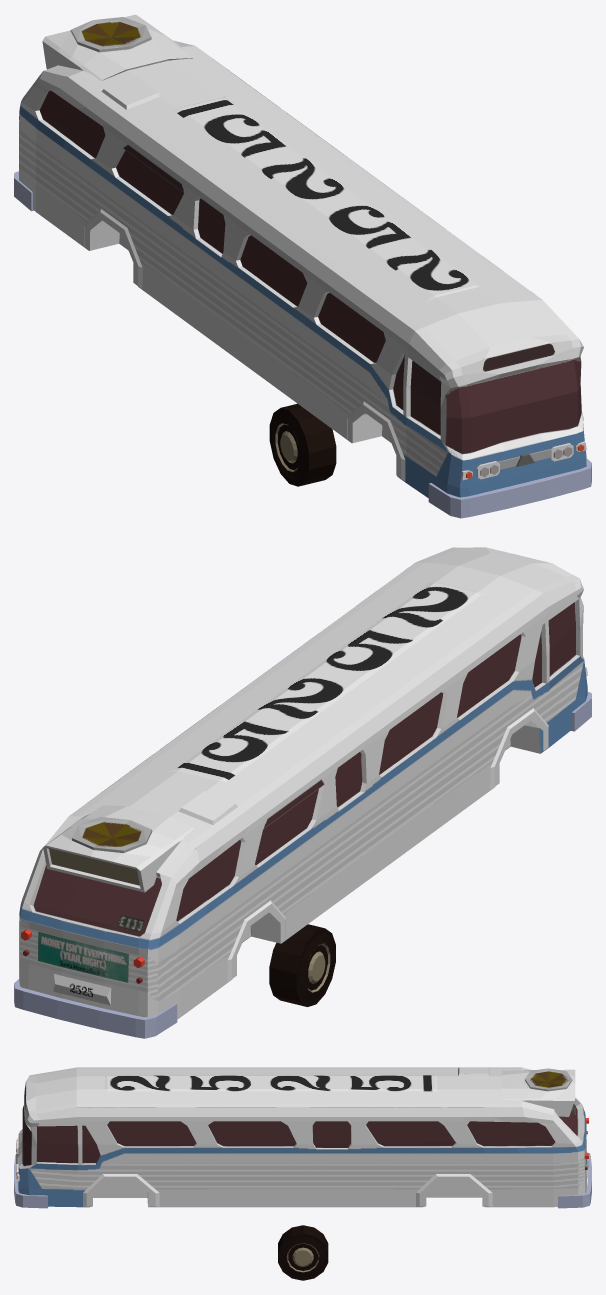
The model's file is bus_textured_2.glb.
3 renders of one model, top to bottom at view 1: azimuth 30°, elevation 25°; view 2: azimuth 150°, elevation 25°; view 3: azimuth 270°, elevation 25°, orthographic. The views are drawn at different scales.
Visible parts, largest first — view 1: bus body, bus body.001, route box, front bumper, wheel B R, wheel F L, wheel F R, thender F R, thender B R; view 2: bus body, bus body.001, route box, back bumper, bus body.003, wheel B R, wheel F L, bus body.004, thender F R, thender B R, wheel F R, wheel B L; view 3: bus body, bus body.001, route box, wheel F R, thender B L, thender F L, wheel B L, wheel F L, back bumper, front bumper.
Boxes of the visible parts, bbox=[...] form: bus body: bbox=[19, 40, 586, 497]; bus body.001: bbox=[174, 95, 480, 301]; route box: bbox=[42, 14, 192, 80]; front bumper: bbox=[428, 458, 591, 518]; wheel B R: bbox=[272, 404, 335, 481]; wheel F L: bbox=[269, 404, 334, 486]; wheel F R: bbox=[280, 404, 336, 485]; thender F R: bbox=[347, 401, 405, 481]; thender B R: bbox=[84, 209, 142, 289]; bus body: bbox=[19, 547, 587, 1019]; bus body.001: bbox=[168, 581, 488, 782]; route box: bbox=[43, 805, 193, 892]; back bumper: bbox=[14, 979, 177, 1038]; bus body.003: bbox=[37, 932, 128, 982]; wheel B R: bbox=[270, 930, 333, 1001]; wheel F L: bbox=[271, 927, 335, 1006]; bus body.004: bbox=[53, 974, 111, 1005]; thender F R: bbox=[490, 708, 548, 789]; thender B R: bbox=[227, 900, 285, 981]; wheel F R: bbox=[269, 924, 325, 1001]; wheel B L: bbox=[273, 926, 307, 1006]; bus body: bbox=[18, 1067, 586, 1207]; bus body.001: bbox=[103, 1074, 438, 1092]; route box: bbox=[502, 1068, 575, 1116]; wheel F R: bbox=[278, 1225, 328, 1280]; thender B L: bbox=[416, 1174, 492, 1206]; thender F L: bbox=[83, 1174, 159, 1206]; wheel B L: bbox=[281, 1236, 325, 1277]; wheel F L: bbox=[279, 1225, 327, 1266]; back bumper: bbox=[558, 1152, 591, 1208]; front bumper: bbox=[14, 1153, 47, 1208].
Size of the model in its own units: 1.55 by 3.08 by 8.18.
18 materials, 10 textured.
